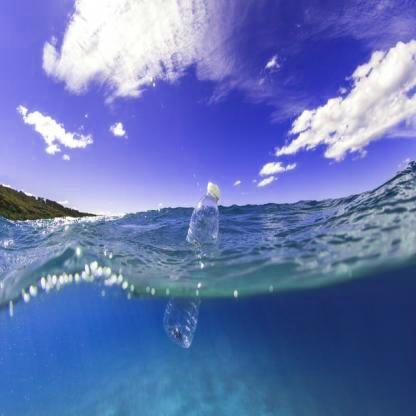Plastic: (161, 175, 229, 350)
